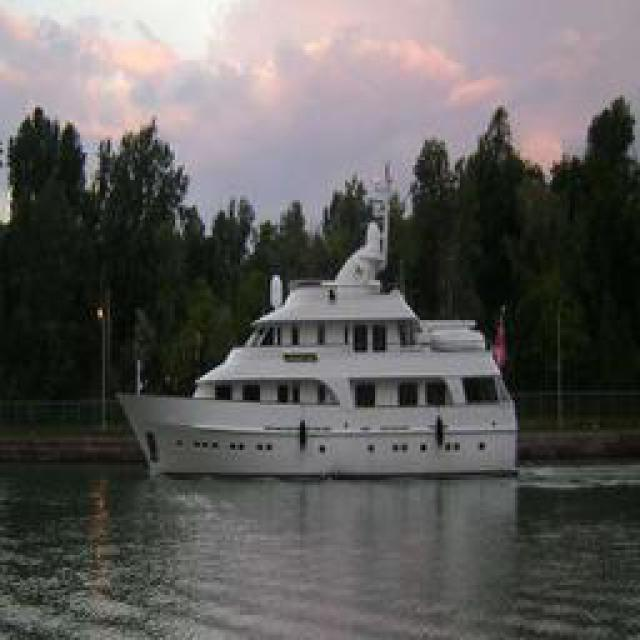Ship: (126, 201, 511, 481)
